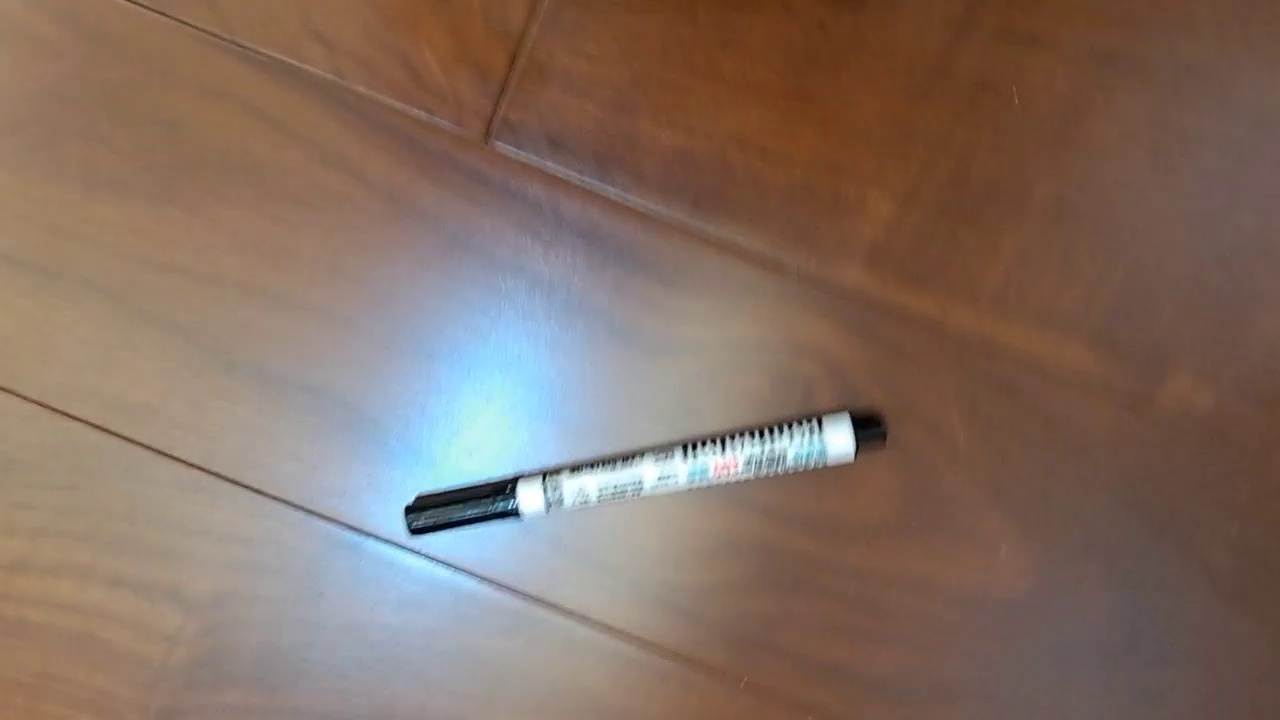pen: (403, 405, 888, 537)
